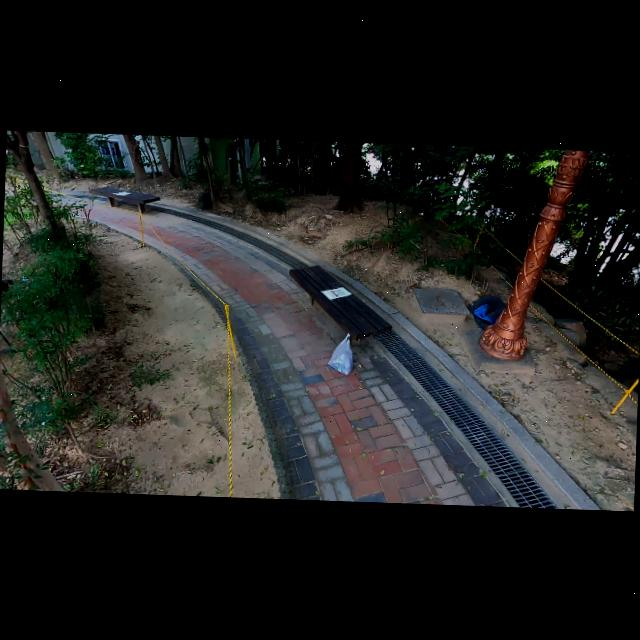trash: (469, 291, 508, 333), (326, 331, 356, 374)
